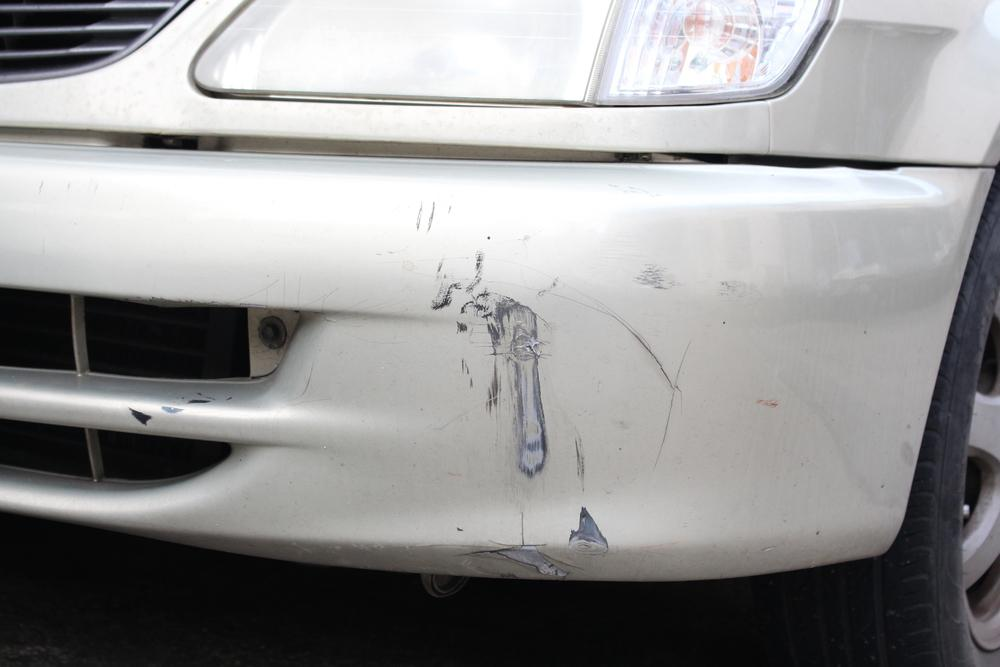scratch: (413, 192, 695, 584)
